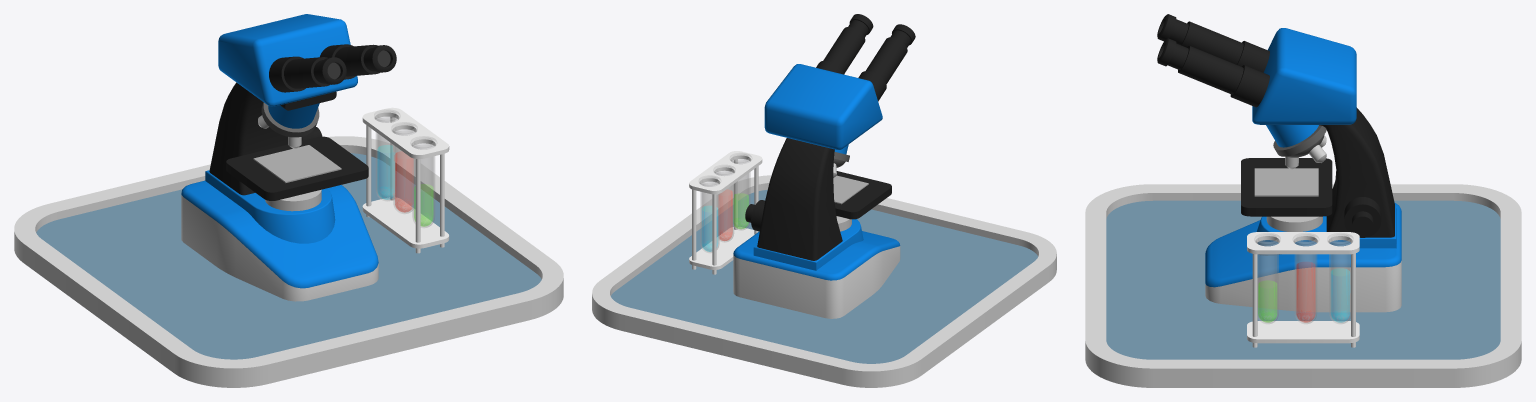
Rendered from МедАнгел.gltf.
3 renders of one model, left to right at view 1: azimuth 30°, elevation 25°; view 2: azimuth 150°, elevation 25°; view 3: azimuth 270°, elevation 25°, orthographic. The views are drawn at different scales.
Visible parts, largest first — view 1: Cube.006; view 2: Cube.006; view 3: Cube.006.
Part boxes in pixels (x1,y1,x2,y2): Cube.006: (14,14,563,387); Cube.006: (592,14,1056,387); Cube.006: (1085,14,1521,387).
Size of the model in its own units: 6 by 4.07 by 6.
